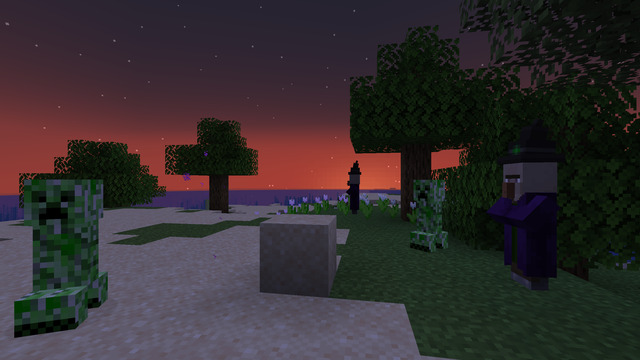creepers: (14, 172, 112, 332), (413, 176, 445, 251)
sorcieres: (497, 156, 565, 293), (348, 172, 361, 213)
